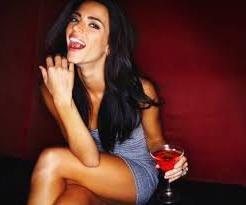Drunk: (66, 7, 107, 64)
